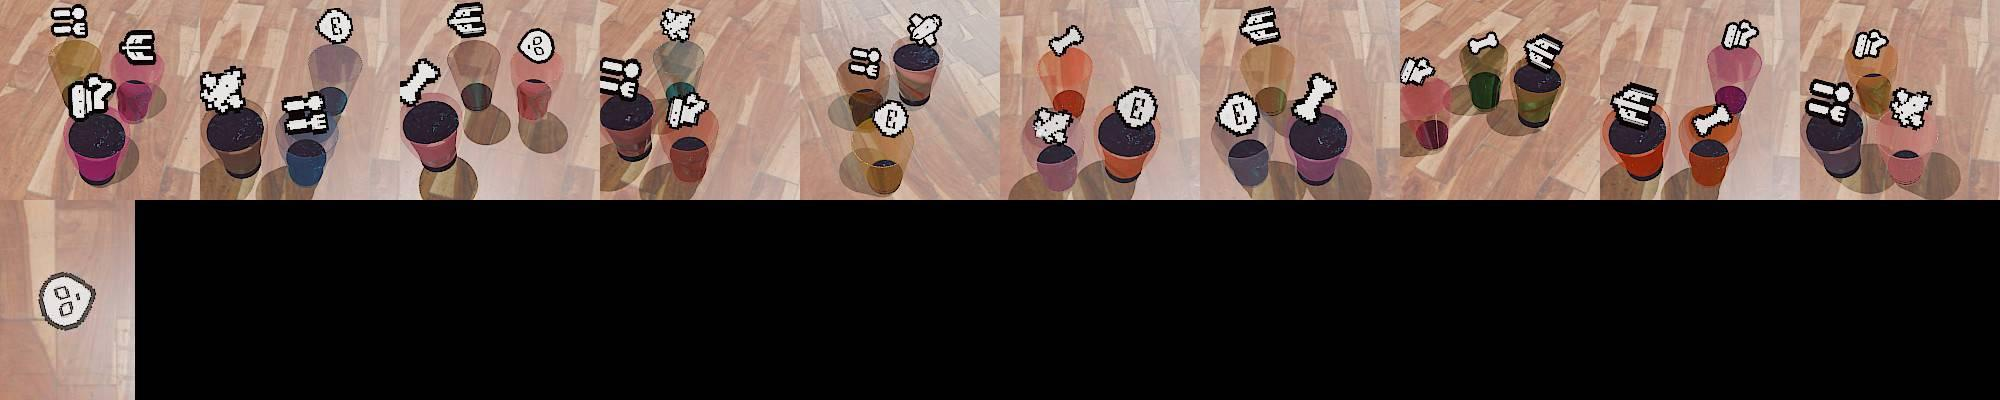icon: (32, 266, 102, 334), (198, 64, 247, 115), (1291, 71, 1341, 122), (65, 73, 117, 120), (1805, 76, 1855, 124), (281, 90, 332, 135), (1610, 82, 1659, 126), (398, 57, 441, 107), (1216, 90, 1260, 138), (598, 56, 643, 101), (1888, 87, 1932, 130), (1115, 84, 1158, 129), (1237, 5, 1281, 47), (666, 89, 708, 130), (1032, 104, 1074, 145), (1523, 32, 1565, 73), (445, 1, 487, 39), (1691, 102, 1735, 136), (315, 8, 353, 46), (517, 28, 556, 65), (50, 4, 91, 39), (872, 99, 909, 138), (120, 28, 157, 65), (1047, 23, 1085, 57), (659, 6, 695, 42), (906, 11, 941, 46), (1721, 19, 1760, 50), (1852, 28, 1890, 59), (847, 46, 880, 80), (1401, 56, 1435, 85), (1466, 31, 1501, 56)
